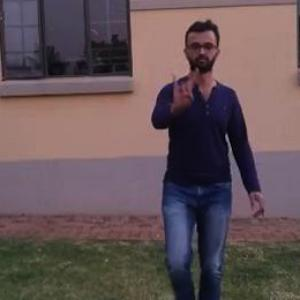takeoff-hand: (160, 62, 199, 118)
